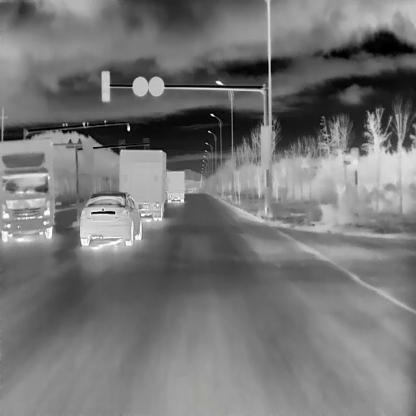car: (0, 137, 53, 242), (79, 191, 142, 246), (118, 149, 164, 219), (166, 170, 183, 201)
